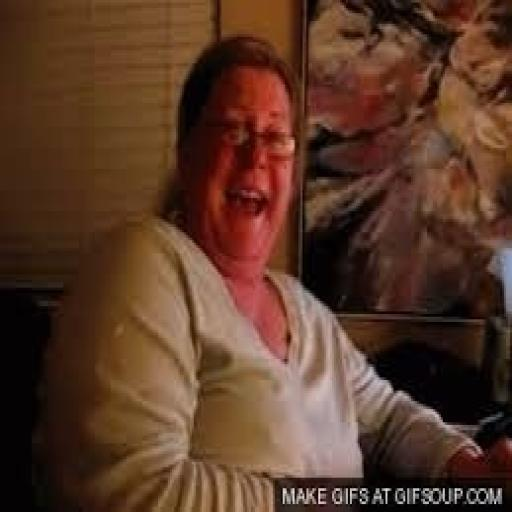laughing: (59, 26, 510, 510)
